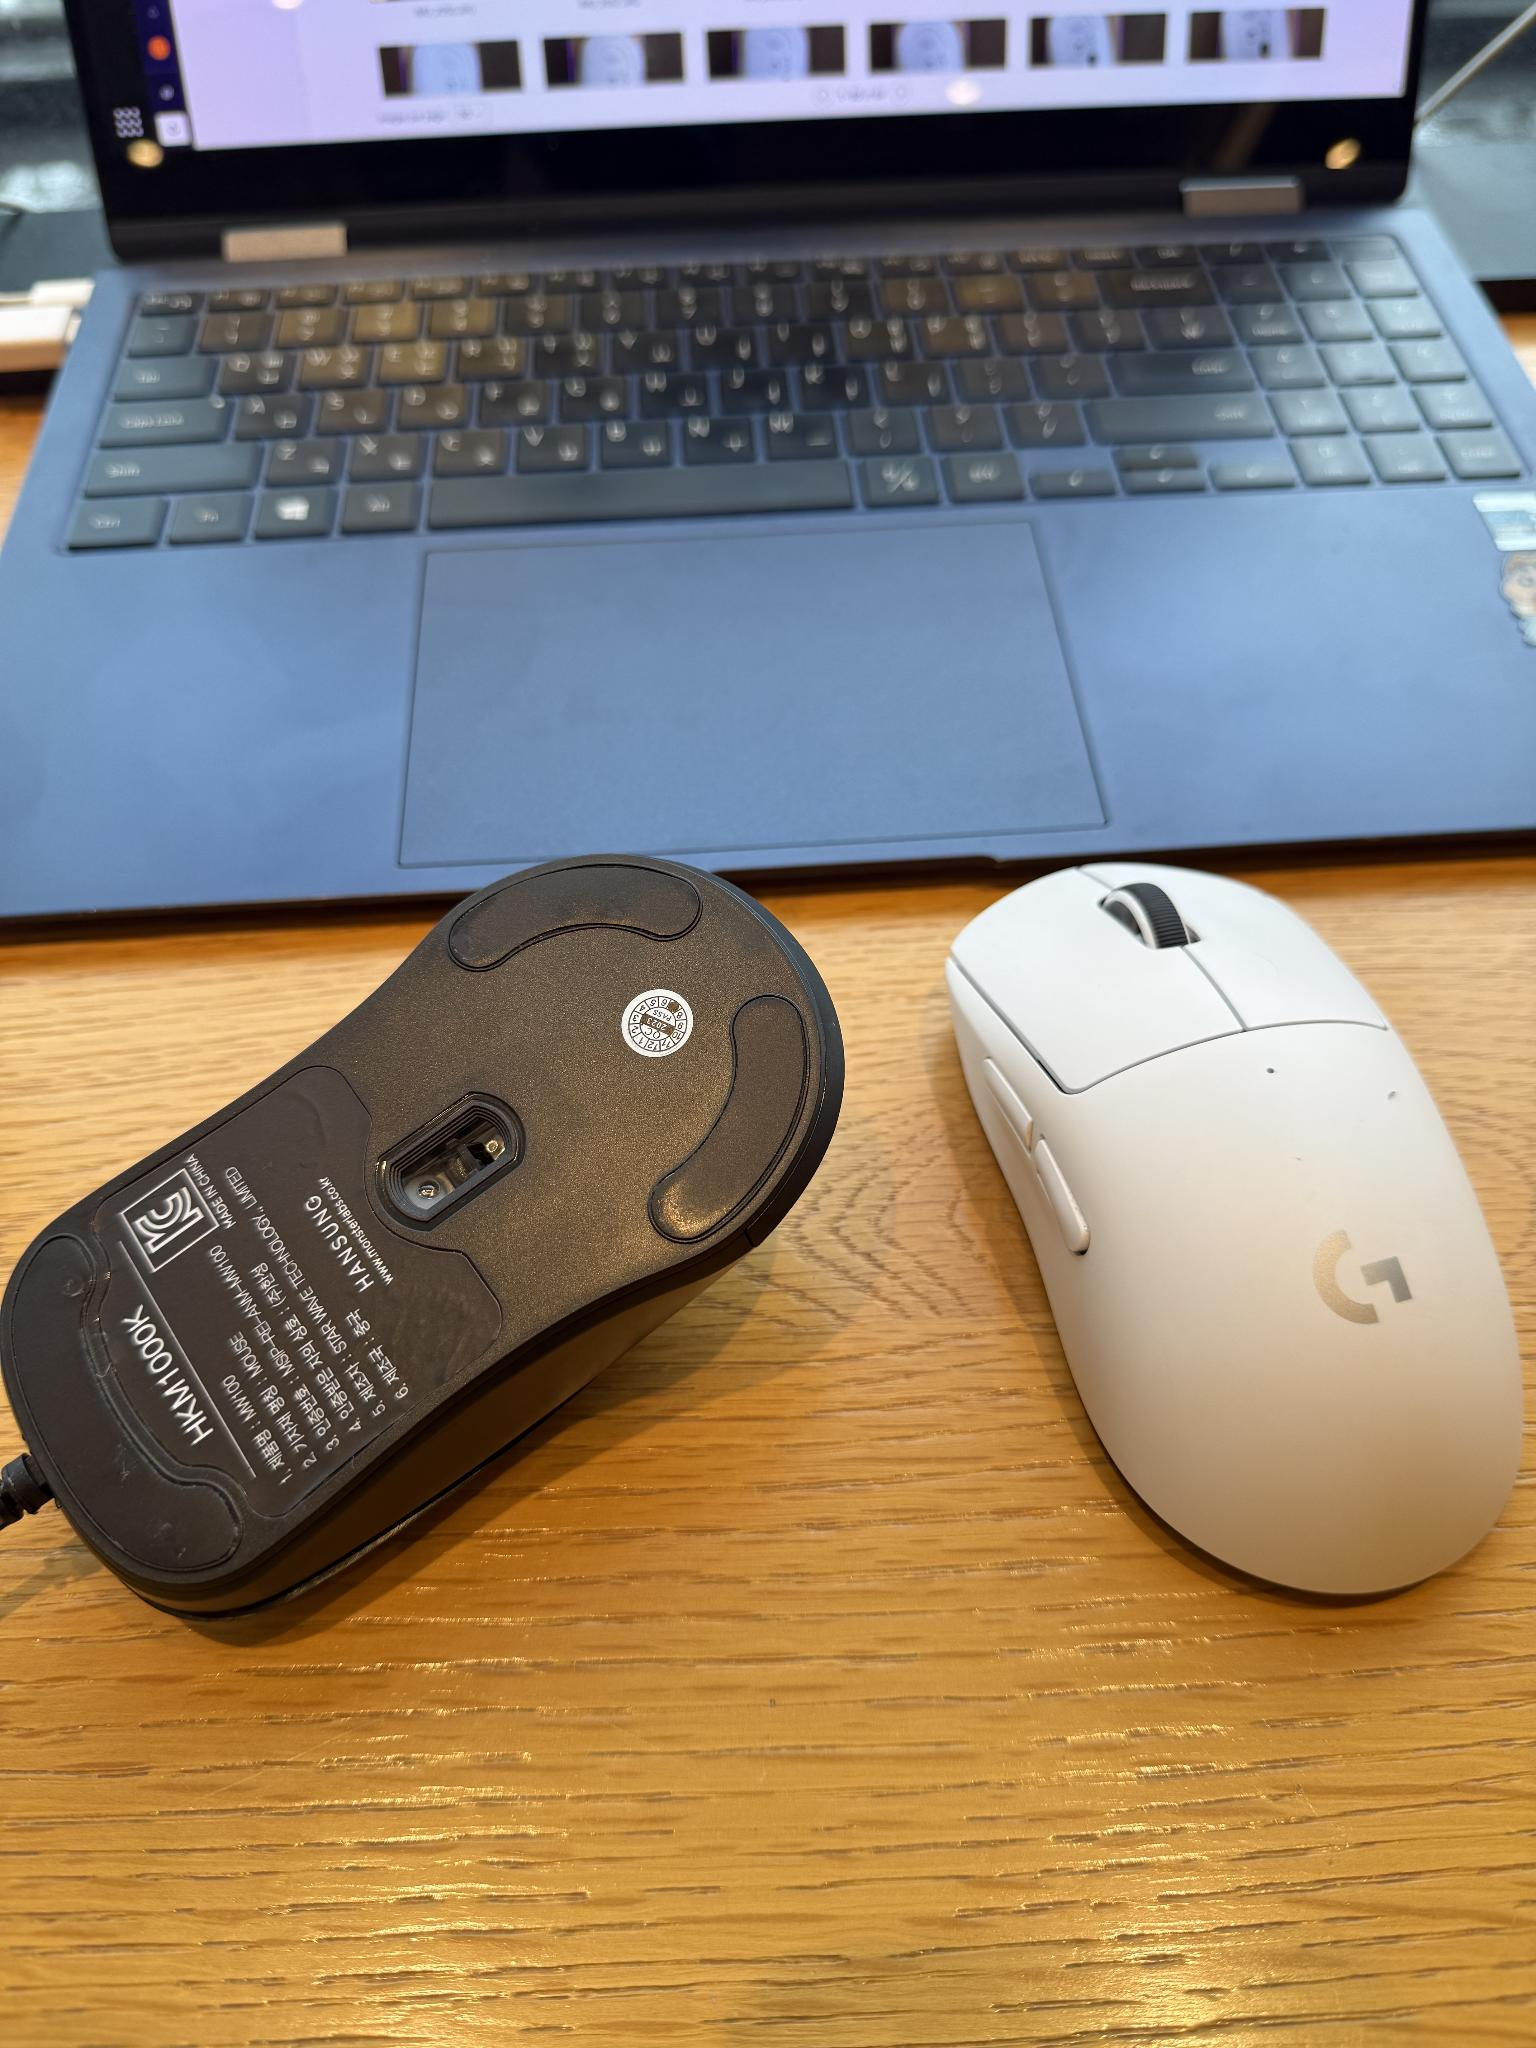back: (0, 853, 854, 1624)
front: (939, 856, 1536, 1603)
